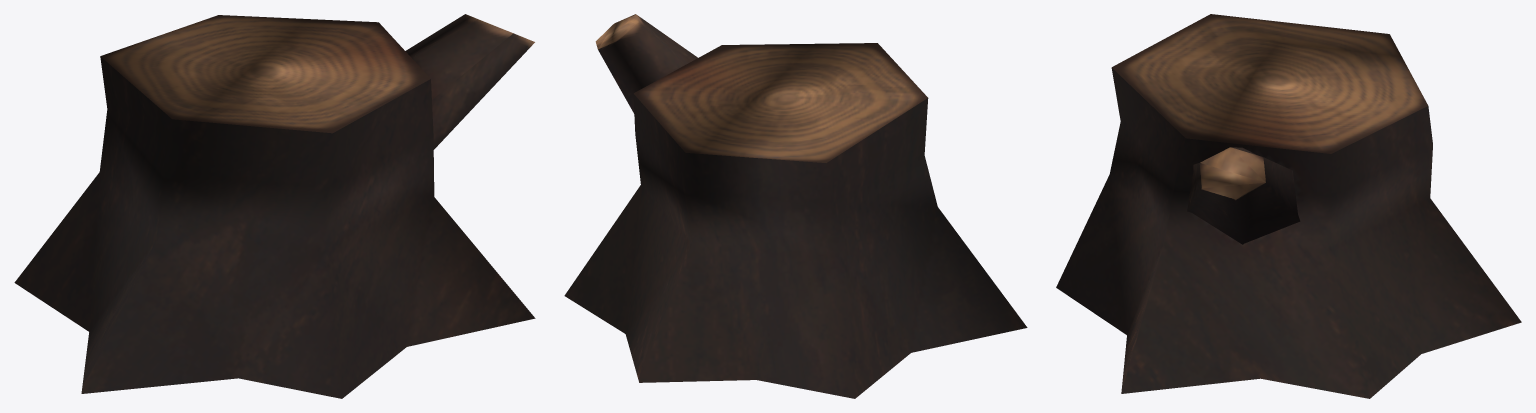
The model's file is Tree07.FBX.
The picture shows the model from 3 angles, left to right: view 1: azimuth 30°, elevation 25°; view 2: azimuth 150°, elevation 25°; view 3: azimuth 270°, elevation 25°; orthographic projection. The views are drawn at different scales.
Parts seen in each view (by area): view 1: Tree06; view 2: Tree06; view 3: Tree06.
Boxes of the visible parts, box(x1,y1,x2,y2) form: Tree06: box(14, 14, 535, 398); Tree06: box(564, 14, 1027, 398); Tree06: box(1056, 14, 1521, 398).
Size of the model in its own units: 14.56 by 7.73 by 13.23.
Materials: 1 (1 with a texture image).
